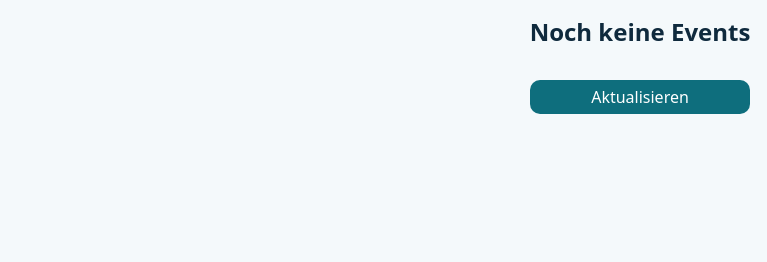
Test: EventPage › shows the empty state and loads again on refresh
Expected: the heading "Noch keine Events" is shown, 530,20 -> 750,44
What coordinates should you click on to do the following:
click the button "Aktualisieren"
I would click on:
 (640, 97)
Its box is 530,80 -> 750,114.
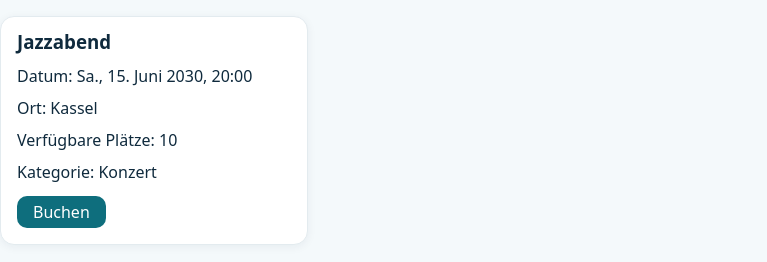
Result: the heading "Jazzabend" is shown at 17,29 -> 111,54
